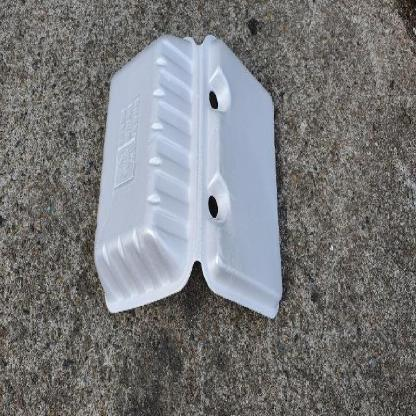Glass Cup: (94, 33, 284, 319), (94, 34, 282, 319)
